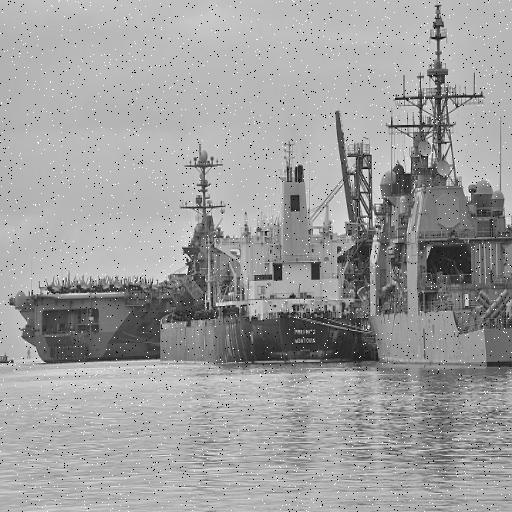Portanaves: (1, 127, 228, 370)
